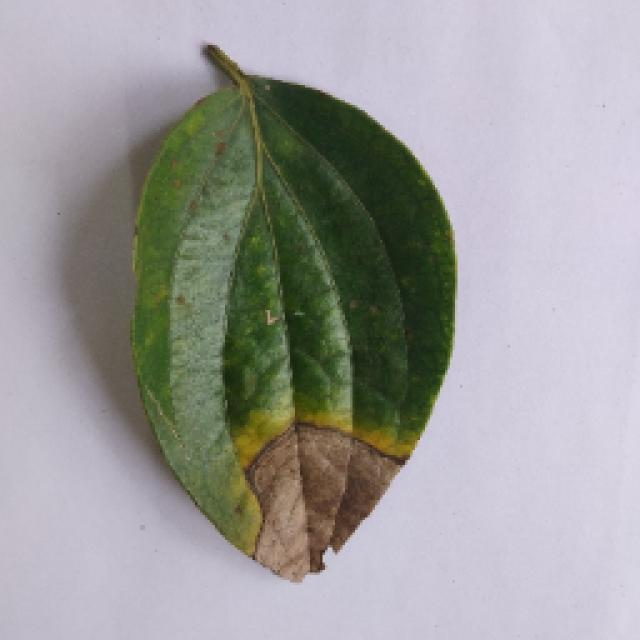footrot: (125, 48, 455, 582)
